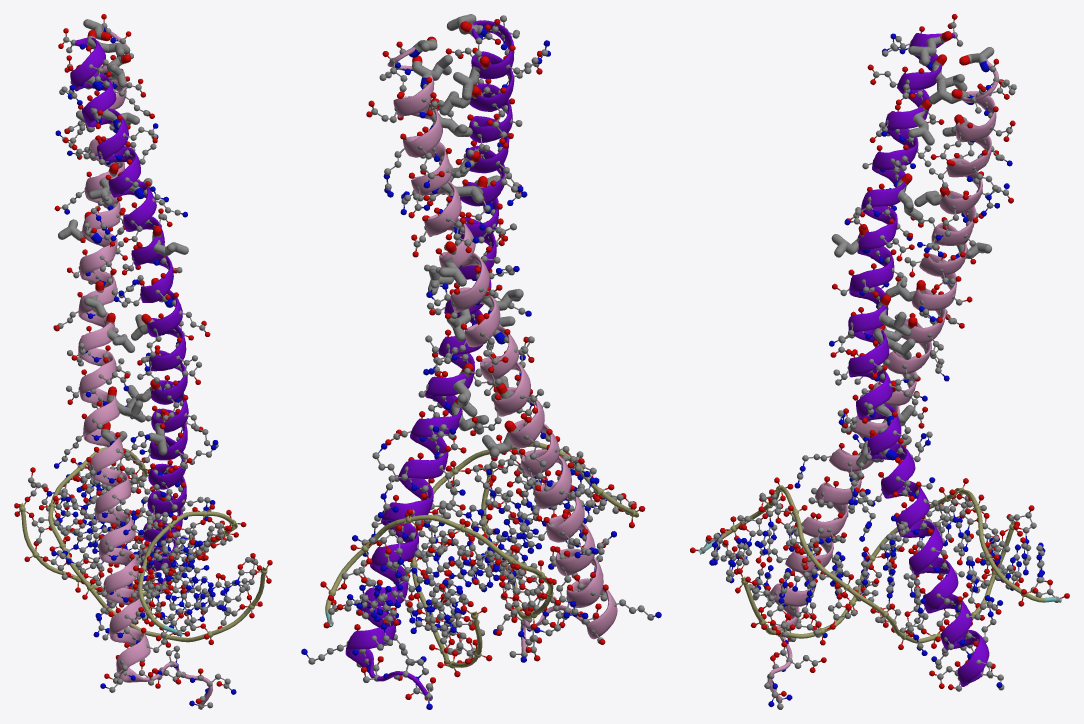
Rendered from dna-tube-cpk--protein-cartoon-cpk-LEU1.glb.
3 views of the same model, side by side, from view 1: azimuth 30°, elevation 25°; view 2: azimuth 150°, elevation 25°; view 3: azimuth 270°, elevation 25° (orthographic). The views are drawn at different scales.
Parts seen in each view (by area): view 1: vmd_mol0_rep7, vmd_mol0_rep5, vmd_mol0_rep6, vmd_mol0_rep8, vmd_mol0_rep1; view 2: vmd_mol0_rep7, vmd_mol0_rep5, vmd_mol0_rep6, vmd_mol0_rep8, vmd_mol0_rep1; view 3: vmd_mol0_rep7, vmd_mol0_rep6, vmd_mol0_rep5, vmd_mol0_rep8, vmd_mol0_rep1.
Boxes of the visible parts, x1,y1,x2,y2 form: vmd_mol0_rep7: (14, 14, 272, 708); vmd_mol0_rep5: (78, 25, 212, 709); vmd_mol0_rep6: (70, 37, 188, 614); vmd_mol0_rep8: (58, 19, 188, 455); vmd_mol0_rep1: (19, 447, 267, 642); vmd_mol0_rep7: (301, 15, 661, 709); vmd_mol0_rep5: (387, 47, 617, 657); vmd_mol0_rep6: (345, 20, 514, 699); vmd_mol0_rep8: (409, 14, 523, 457); vmd_mol0_rep1: (325, 443, 638, 667); vmd_mol0_rep7: (690, 14, 1069, 709); vmd_mol0_rep6: (848, 33, 989, 686); vmd_mol0_rep5: (767, 60, 998, 703); vmd_mol0_rep8: (831, 31, 994, 466); vmd_mol0_rep1: (698, 486, 1061, 643).
Bounding box in the file's own units: 0.6283 × 1.88 × 0.9767.
